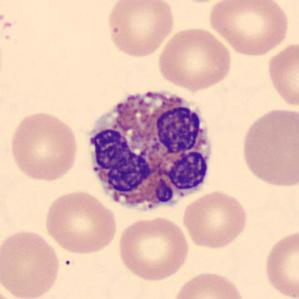Eosinophil: (80, 78, 223, 223)
RBC: (7, 108, 81, 184), (115, 214, 192, 283), (42, 188, 119, 256), (156, 25, 234, 92), (205, 0, 292, 57), (239, 106, 298, 190), (0, 227, 63, 299), (180, 189, 250, 250), (104, 0, 176, 58), (262, 227, 298, 299), (265, 40, 299, 110), (169, 269, 247, 299), (0, 281, 21, 299)
